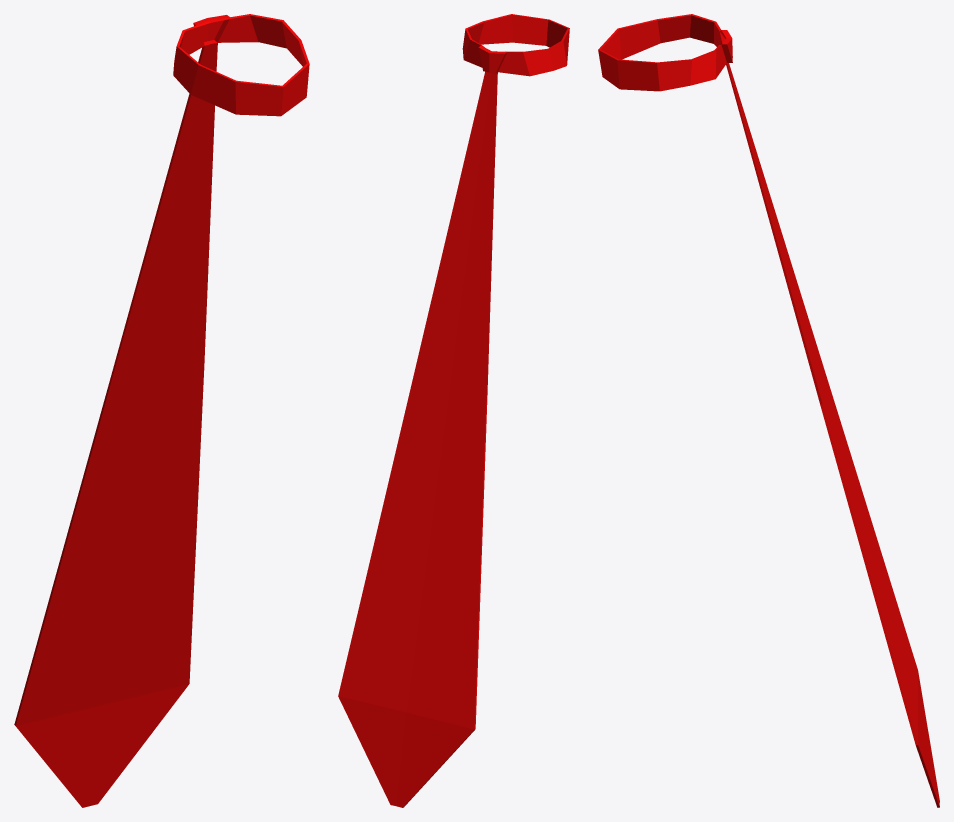
Rendered from tie.fbx.
3 renders of one model, left to right at view 1: azimuth 30°, elevation 25°; view 2: azimuth 150°, elevation 25°; view 3: azimuth 270°, elevation 25°, orthographic. The views are drawn at different scales.
Parts seen in each view (by area): view 1: Cube.001; view 2: Cube.001; view 3: Cube.001.
Part boxes in pixels (left/top/right/bottom): Cube.001: left=14, top=14, right=309, bottom=807; Cube.001: left=338, top=14, right=569, bottom=807; Cube.001: left=598, top=14, right=939, bottom=807.
Size of the model in its own units: 69.99 by 337 by 136.
